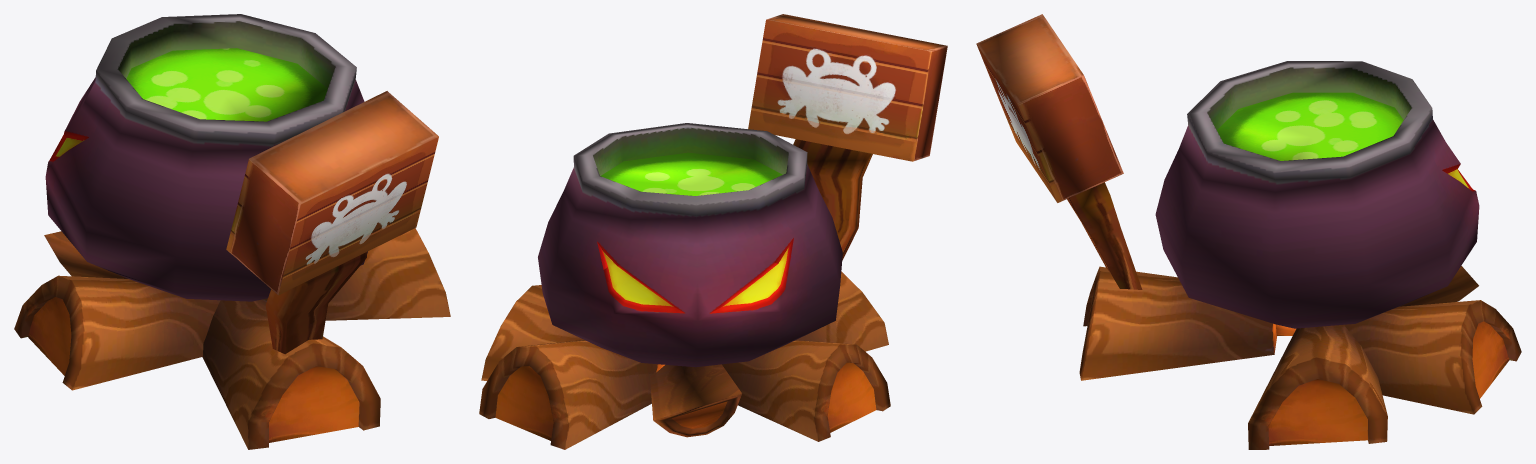
File: CarvedOdysseyStatue.fbx
3 views of the same model, side by side, from view 1: azimuth 30°, elevation 25°; view 2: azimuth 150°, elevation 25°; view 3: azimuth 270°, elevation 25° (orthographic). The views are drawn at different scales.
Visible parts, largest first — view 1: Carved; view 2: Carved; view 3: Carved.
Part boxes in pixels (<box>): Carved: <box>14,14,450,449</box>; Carved: <box>479,14,947,449</box>; Carved: <box>976,14,1521,449</box>.
Size of the model in its own units: 17.92 by 15.1 by 23.77.
1 material, 1 textured.
